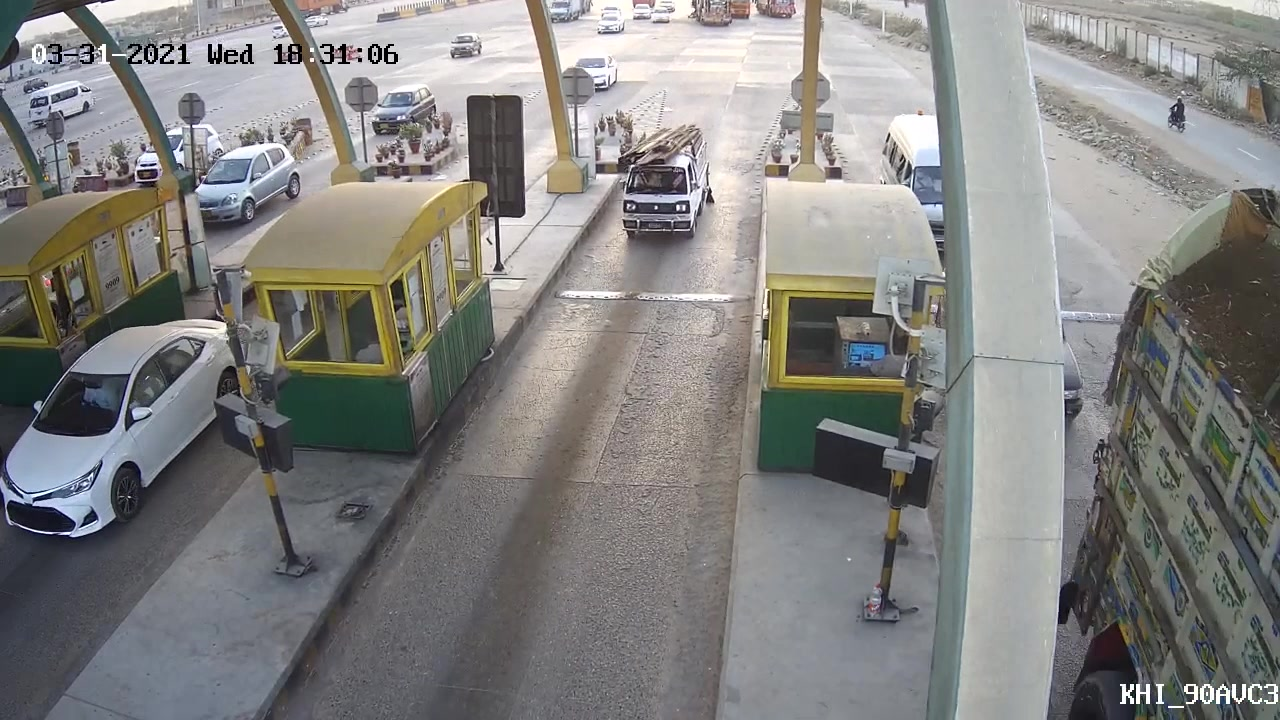F2: (617, 122, 717, 247)
